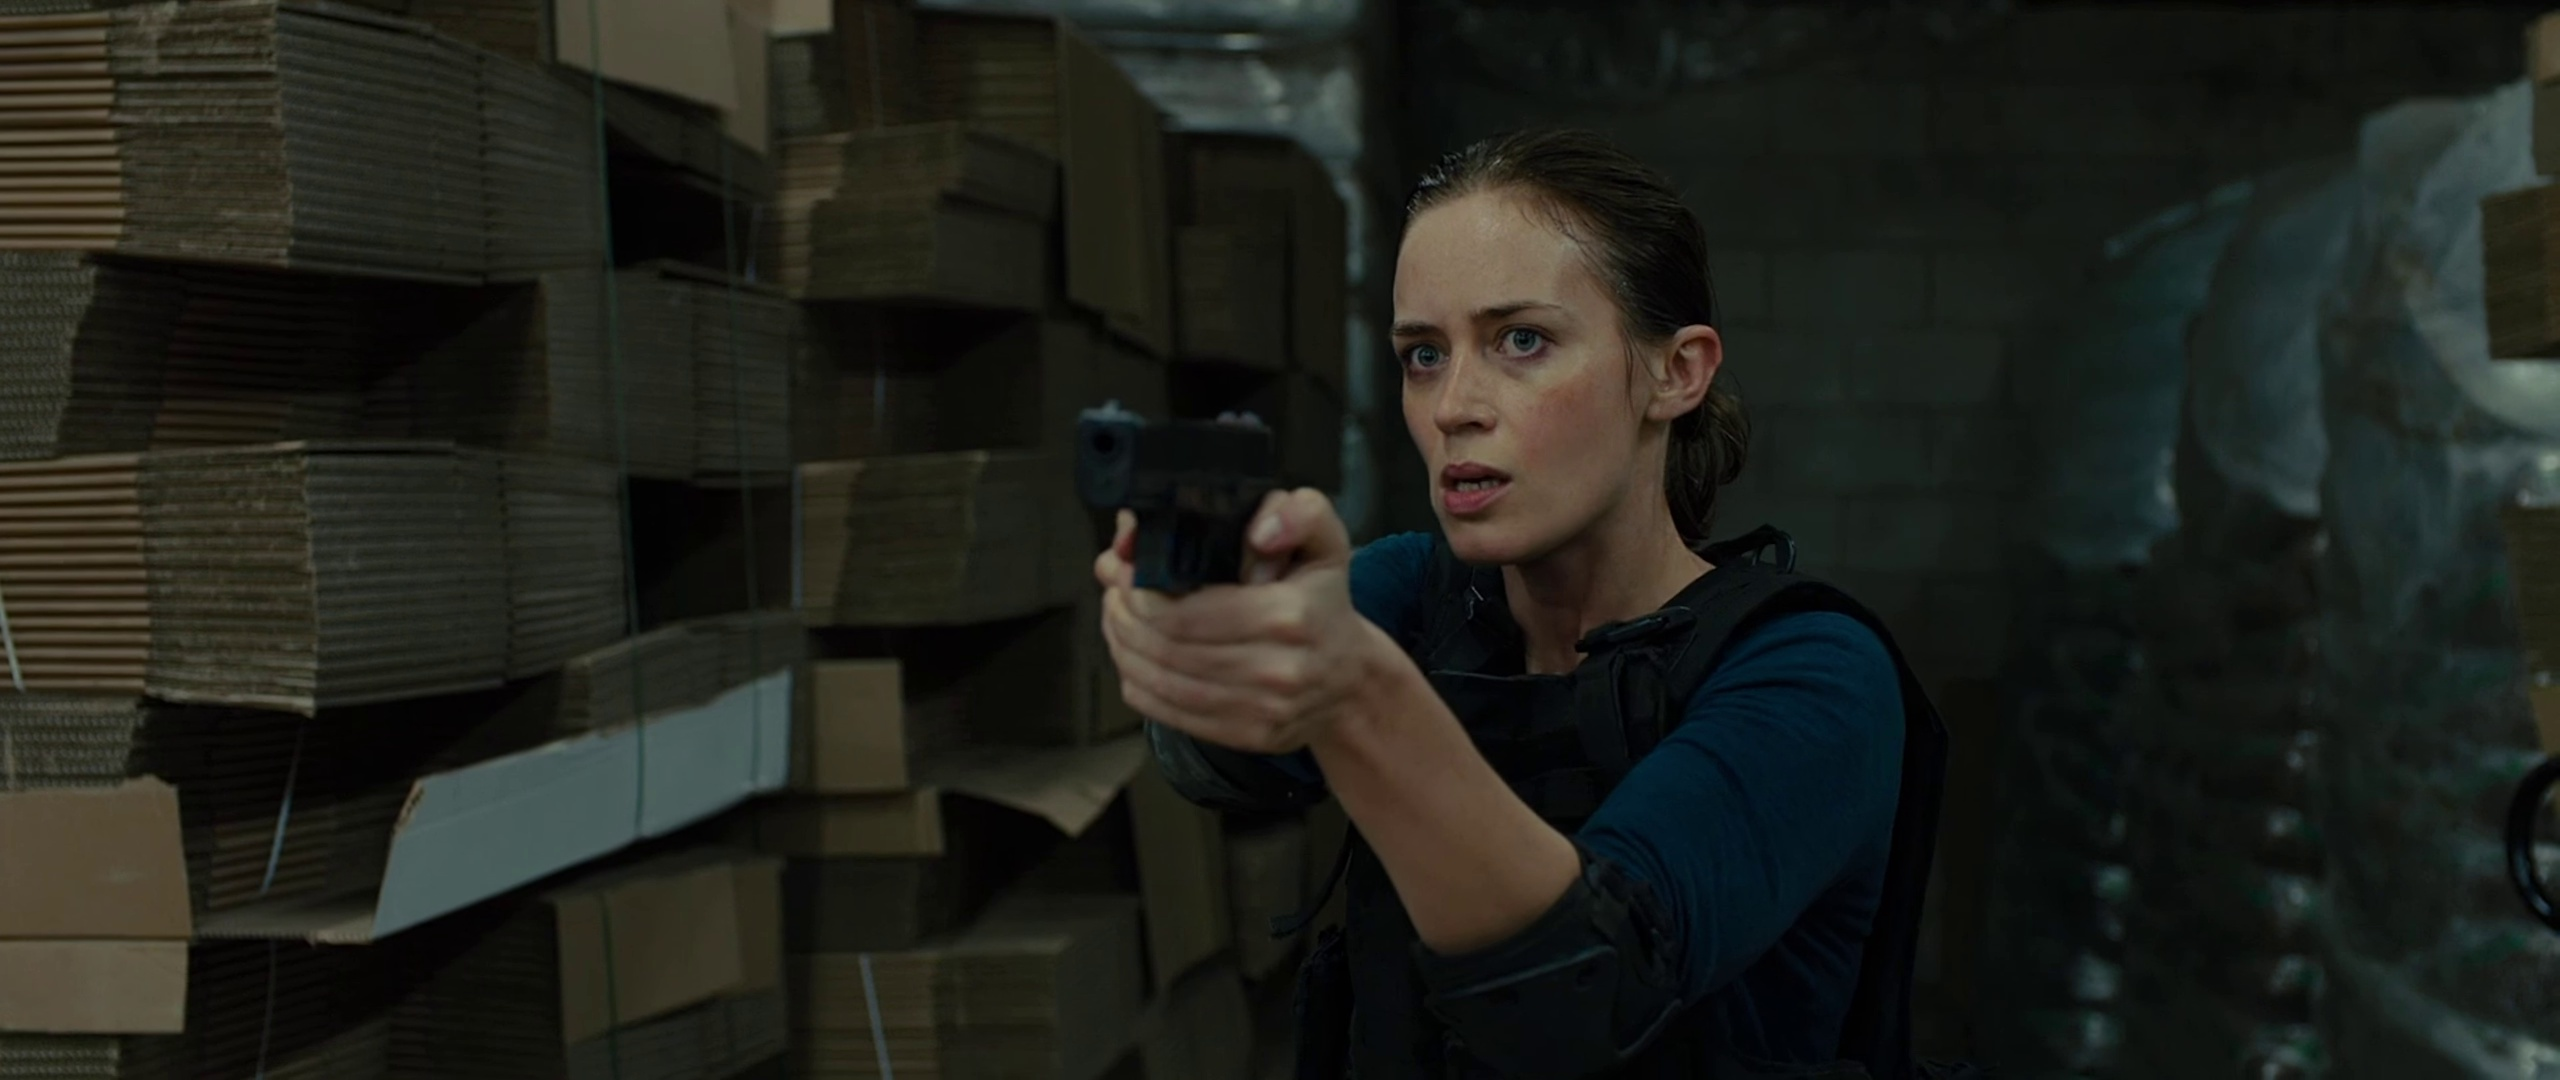gun: (1066, 393, 1298, 646)
p_w_gun: (1055, 113, 1922, 1080)
